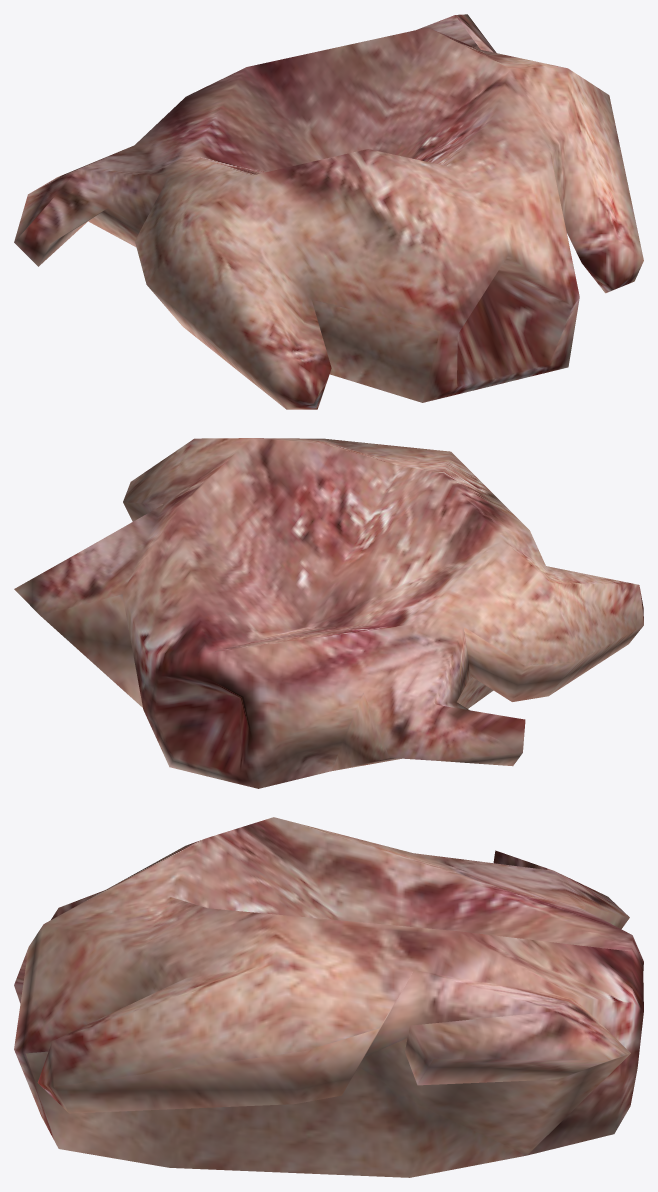
Rendered from birdGibbed.dae.
3 views of the same model, one above another, from view 1: azimuth 30°, elevation 25°; view 2: azimuth 150°, elevation 25°; view 3: azimuth 270°, elevation 25° (orthographic). The views are drawn at different scales.
Parts seen in each view (by area): view 1: polySurface1; view 2: polySurface1; view 3: polySurface1.
Boxes of the visible parts, bbox=[...] form: polySurface1: bbox=[14, 14, 643, 409]; polySurface1: bbox=[14, 438, 643, 788]; polySurface1: bbox=[14, 817, 643, 1177].
Size of the model in its own units: 0.2478 by 0.1041 by 0.2337.
1 material, 1 textured.
